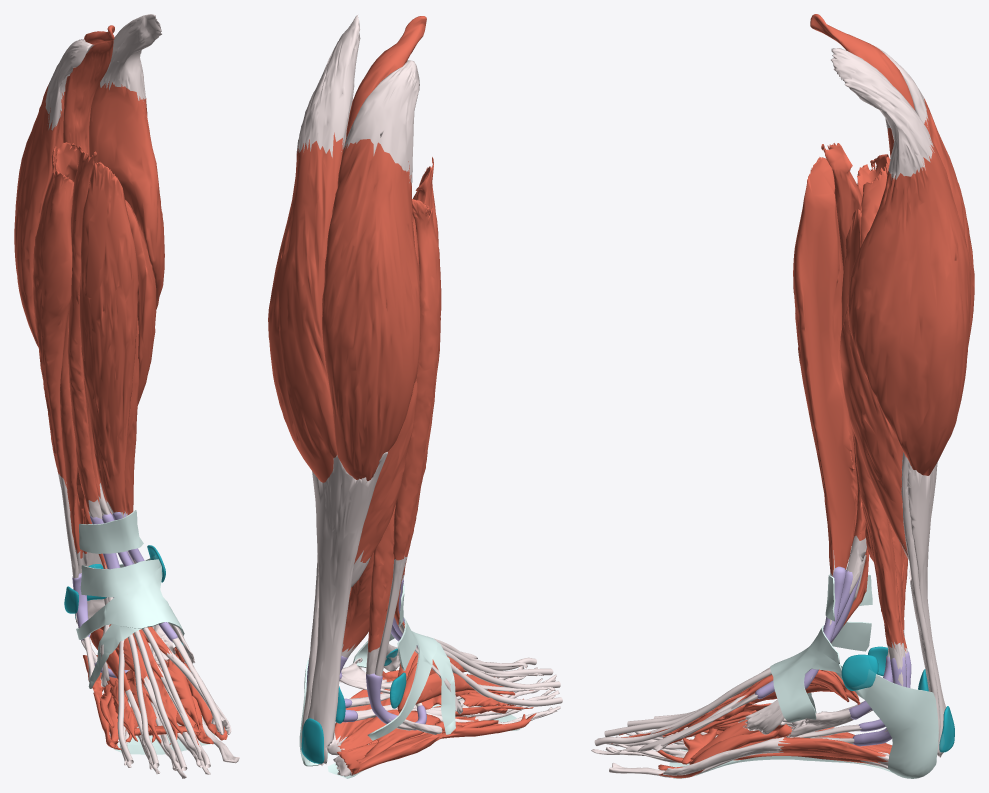
The model's file is muscles.glb.
3 views of the same model, side by side, from view 1: azimuth 30°, elevation 25°; view 2: azimuth 150°, elevation 25°; view 3: azimuth 270°, elevation 25° (orthographic). The views are drawn at different scales.
Parts seen in each view (by area): view 1: Tibialis anterior muscle.r, Medial head of gastrocnemius.r, Fibularis longus muscle.r, Lateral head of gastrocnemius.r, Extensor digitorum longus.r, Soleus muscle.r, Plantaris muscle.r, Tendon of extensor digitorum longus.r, Superior fibular retinaculum.r, Fibularis brevis muscle.r, Extensor digitorum brevis.r, Dorsal interossei muscles of foot.r (+14 smaller); view 2: Lateral head of gastrocnemius.r, Medial head of gastrocnemius.r, Calcaneal tendon.r, Fibularis longus muscle.r, Soleus muscle.r, Plantaris muscle.r, Fibularis brevis muscle.r, Tendon of extensor digitorum longus.r, Abductor digiti minimi of foot.r, Flexor hallucis longus.r, Extensor digitorum brevis.r, Superior fibular retinaculum.r (+12 smaller); view 3: Medial head of gastrocnemius.r, Tibialis anterior muscle.r, Soleus muscle.r, Flexor retinaculum of ankle.r, Flexor digitorum longus.r, Plantaris muscle.r, Calcaneal tendon.r, Abductor hallucis.r, Superior fibular retinaculum.r, Lateral head of gastrocnemius.r, Tibialis posterior muscle.r, Extensor digitorum longus.r (+12 smaller).
Part boxes in pixels (x1,y1,x2,y2): Tibialis anterior muscle.r: [79, 162, 194, 663]; Medial head of gastrocnemius.r: [89, 14, 164, 310]; Fibularis longus muscle.r: [33, 146, 161, 671]; Lateral head of gastrocnemius.r: [14, 39, 93, 347]; Extensor digitorum longus.r: [67, 150, 102, 518]; Soleus muscle.r: [40, 142, 156, 405]; Plantaris muscle.r: [63, 25, 114, 604]; Tendon of extensor digitorum longus.r: [117, 627, 210, 770]; Superior fibular retinaculum.r: [76, 566, 184, 642]; Fibularis brevis muscle.r: [60, 311, 94, 680]; Extensor digitorum brevis.r: [90, 624, 202, 763]; Dorsal interossei muscles of foot.r: [109, 659, 200, 743]; Lateral head of gastrocnemius.r: [322, 60, 420, 481]; Medial head of gastrocnemius.r: [268, 15, 360, 482]; Calcaneal tendon.r: [304, 452, 387, 765]; Fibularis longus muscle.r: [375, 199, 441, 730]; Soleus muscle.r: [351, 215, 419, 587]; Plantaris muscle.r: [301, 16, 426, 746]; Fibularis brevis muscle.r: [366, 505, 442, 734]; Tendon of extensor digitorum longus.r: [434, 638, 562, 706]; Abductor digiti minimi of foot.r: [337, 714, 530, 774]; Flexor hallucis longus.r: [341, 552, 471, 707]; Extensor digitorum brevis.r: [397, 654, 555, 713]; Superior fibular retinaculum.r: [353, 631, 437, 740]; Medial head of gastrocnemius.r: [831, 48, 970, 475]; Tibialis anterior muscle.r: [738, 157, 857, 734]; Soleus muscle.r: [839, 156, 908, 559]; Flexor retinaculum of ankle.r: [851, 670, 938, 778]; Flexor digitorum longus.r: [591, 430, 906, 759]; Plantaris muscle.r: [810, 14, 940, 740]; Calcaneal tendon.r: [907, 462, 945, 757]; Abductor hallucis.r: [663, 737, 889, 775]; Superior fibular retinaculum.r: [770, 644, 862, 722]; Lateral head of gastrocnemius.r: [873, 45, 974, 346]; Tibialis posterior muscle.r: [782, 209, 889, 737]; Extensor digitorum longus.r: [821, 143, 867, 601].
Bounding box in the file's own units: 0.1094 × 0.504 × 0.2348.
